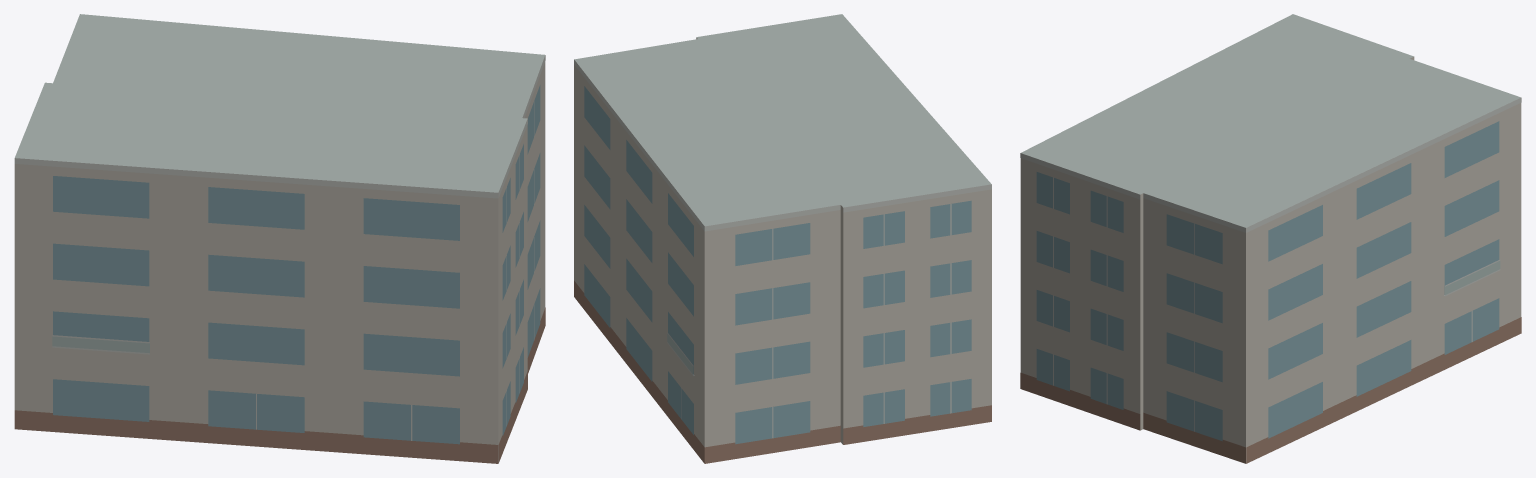
Rendered from survey-upis-32592581.glb.
3 views of the same model, side by side, from view 1: azimuth 30°, elevation 25°; view 2: azimuth 150°, elevation 25°; view 3: azimuth 270°, elevation 25° (orthographic). The views are drawn at different scales.
Visible parts, largest first — view 1: survey-upis-32592581.tmp; view 2: survey-upis-32592581.tmp; view 3: survey-upis-32592581.tmp.
Part boxes in pixels (x1,y1,x2,y2): survey-upis-32592581.tmp: [14, 14, 545, 463]; survey-upis-32592581.tmp: [574, 14, 991, 463]; survey-upis-32592581.tmp: [1020, 14, 1521, 463].
Bounding box in the file's own units: 22.28 × 11.45 × 22.04.
